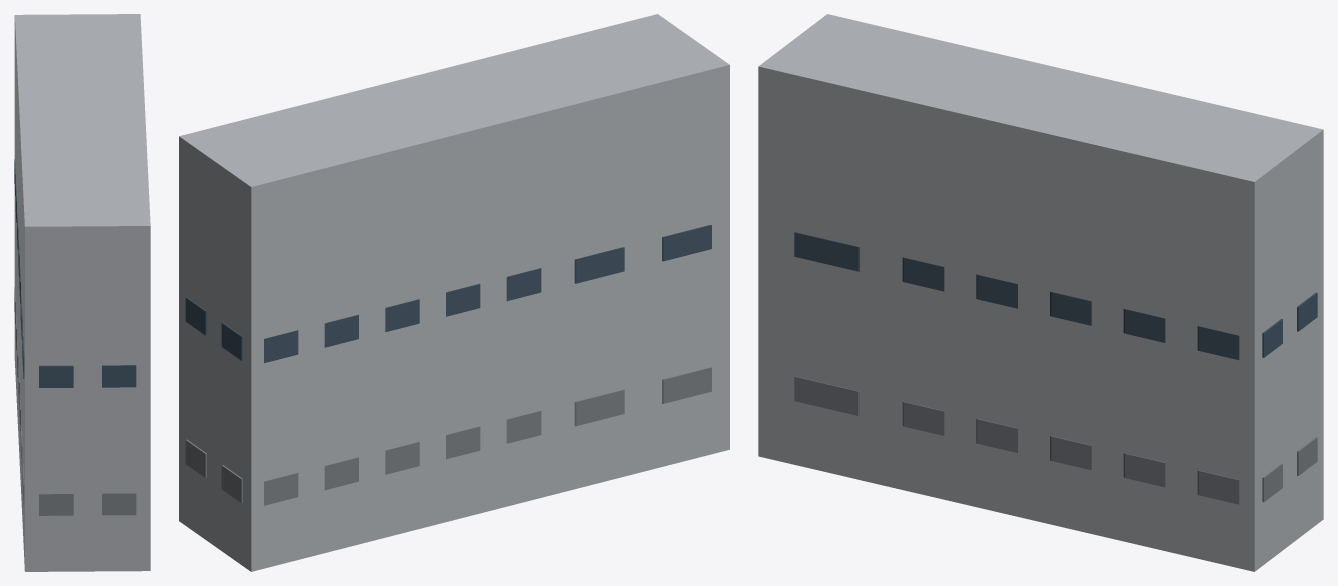
Rendered from doitt-835659__lod_0.glb.
3 renders of one model, left to right at view 1: azimuth 30°, elevation 25°; view 2: azimuth 150°, elevation 25°; view 3: azimuth 270°, elevation 25°, orthographic. The views are drawn at different scales.
Visible parts, largest first — view 1: doitt:835659__lod_0__estimated_mass, doitt:835659__lod_0__facade_03_00_01, doitt:835659__lod_0__facade_03_01_01, doitt:835659__lod_0__facade_03_00_00, doitt:835659__lod_0__facade_03_01_00; view 2: doitt:835659__lod_0__estimated_mass, doitt:835659__lod_0__facade_04_00_01, doitt:835659__lod_0__facade_04_01_01, doitt:835659__lod_0__facade_04_00_00, doitt:835659__lod_0__facade_04_01_00, doitt:835659__lod_0__facade_05_01_00, doitt:835659__lod_0__facade_05_00_00, doitt:835659__lod_0__facade_05_00_02, doitt:835659__lod_0__facade_05_01_02, doitt:835659__lod_0__facade_05_00_03, doitt:835659__lod_0__facade_05_00_01, doitt:835659__lod_0__facade_05_00_04 (+3 smaller); view 3: doitt:835659__lod_0__estimated_mass, doitt:835659__lod_0__facade_01_00_00, doitt:835659__lod_0__facade_01_01_00, doitt:835659__lod_0__facade_00_01_04, doitt:835659__lod_0__facade_00_00_00, doitt:835659__lod_0__facade_00_00_01, doitt:835659__lod_0__facade_00_00_04, doitt:835659__lod_0__facade_00_01_01, doitt:835659__lod_0__facade_00_01_00, doitt:835659__lod_0__facade_00_00_03, doitt:835659__lod_0__facade_00_01_02, doitt:835659__lod_0__facade_00_01_03 (+1 smaller).
Boxes of the visible parts, bbox=[...] form: doitt:835659__lod_0__estimated_mass: bbox=[14, 14, 150, 571]; doitt:835659__lod_0__facade_03_00_01: bbox=[39, 493, 73, 515]; doitt:835659__lod_0__facade_03_01_01: bbox=[39, 365, 73, 387]; doitt:835659__lod_0__facade_03_00_00: bbox=[102, 493, 136, 515]; doitt:835659__lod_0__facade_03_01_00: bbox=[102, 365, 136, 387]; doitt:835659__lod_0__estimated_mass: bbox=[179, 14, 729, 571]; doitt:835659__lod_0__facade_04_00_01: bbox=[574, 389, 624, 426]; doitt:835659__lod_0__facade_04_01_01: bbox=[574, 247, 624, 283]; doitt:835659__lod_0__facade_04_00_00: bbox=[662, 367, 711, 403]; doitt:835659__lod_0__facade_04_01_00: bbox=[662, 225, 711, 261]; doitt:835659__lod_0__facade_05_01_00: bbox=[506, 268, 541, 301]; doitt:835659__lod_0__facade_05_00_00: bbox=[506, 410, 541, 443]; doitt:835659__lod_0__facade_05_00_02: bbox=[385, 441, 419, 474]; doitt:835659__lod_0__facade_05_01_02: bbox=[385, 299, 419, 332]; doitt:835659__lod_0__facade_05_00_03: bbox=[324, 457, 358, 490]; doitt:835659__lod_0__facade_05_00_01: bbox=[446, 426, 480, 459]; doitt:835659__lod_0__facade_05_00_04: bbox=[264, 473, 298, 505]; doitt:835659__lod_0__estimated_mass: bbox=[758, 14, 1323, 571]; doitt:835659__lod_0__facade_01_00_00: bbox=[794, 376, 859, 415]; doitt:835659__lod_0__facade_01_01_00: bbox=[794, 232, 859, 271]; doitt:835659__lod_0__facade_00_01_04: bbox=[902, 257, 944, 291]; doitt:835659__lod_0__facade_00_00_00: bbox=[1197, 470, 1239, 504]; doitt:835659__lod_0__facade_00_00_01: bbox=[1123, 453, 1165, 487]; doitt:835659__lod_0__facade_00_00_04: bbox=[902, 401, 944, 435]; doitt:835659__lod_0__facade_00_01_01: bbox=[1123, 308, 1165, 342]; doitt:835659__lod_0__facade_00_01_00: bbox=[1197, 326, 1239, 359]; doitt:835659__lod_0__facade_00_00_03: bbox=[976, 418, 1017, 452]; doitt:835659__lod_0__facade_00_01_02: bbox=[1050, 291, 1091, 325]; doitt:835659__lod_0__facade_00_01_03: bbox=[976, 274, 1017, 308].
Bounding box in the file's own units: 21.38 × 23.13 × 30.4.
